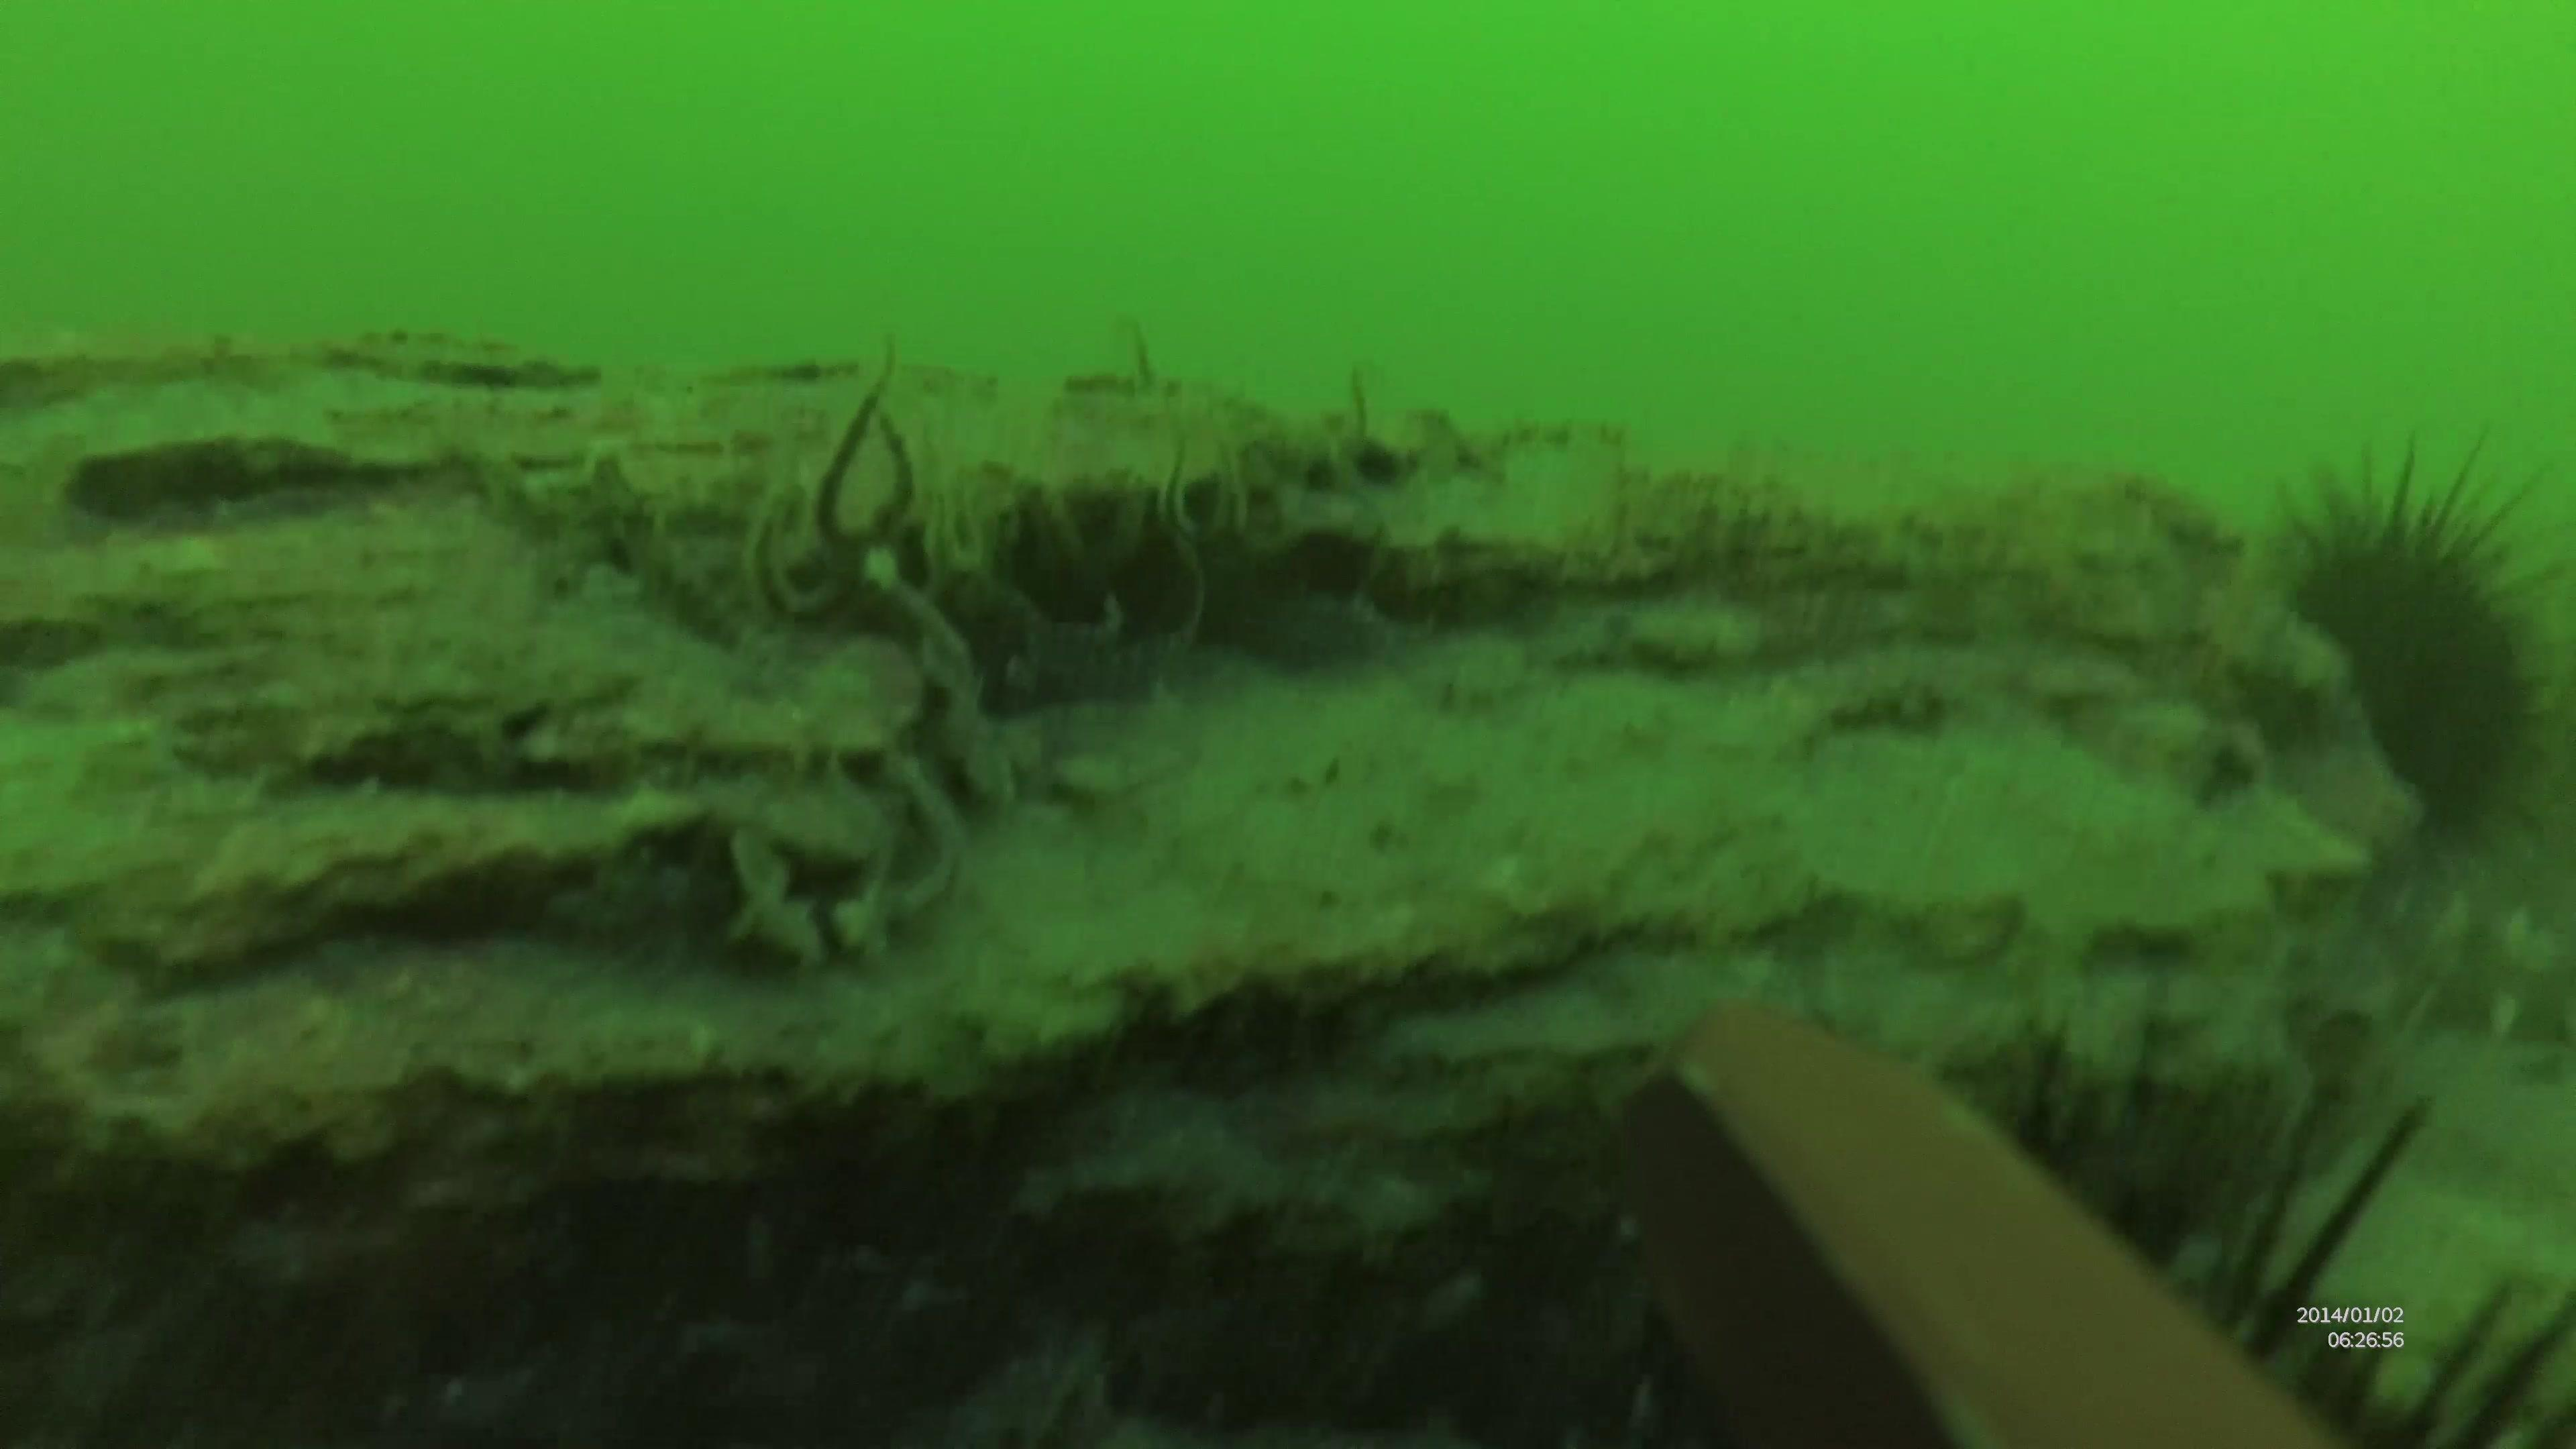echinus: (2015, 1047, 2576, 1449), (2270, 430, 2576, 846)
holothurian: (2355, 876, 2576, 1039)
